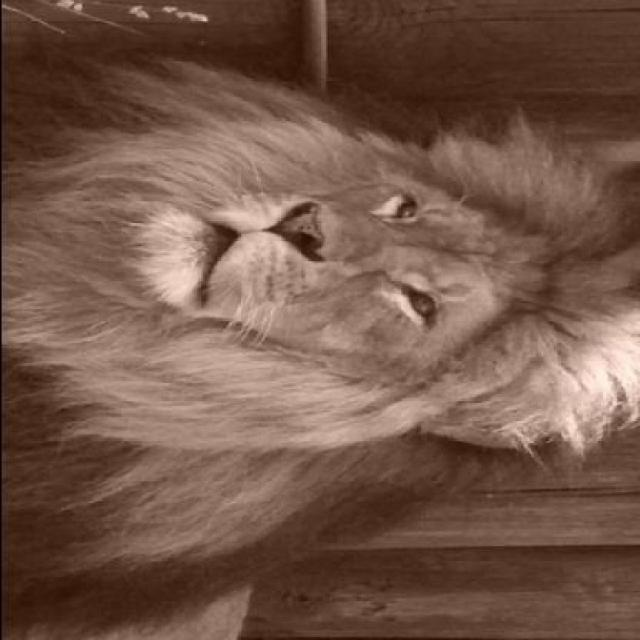Lion: (2, 29, 629, 588)
